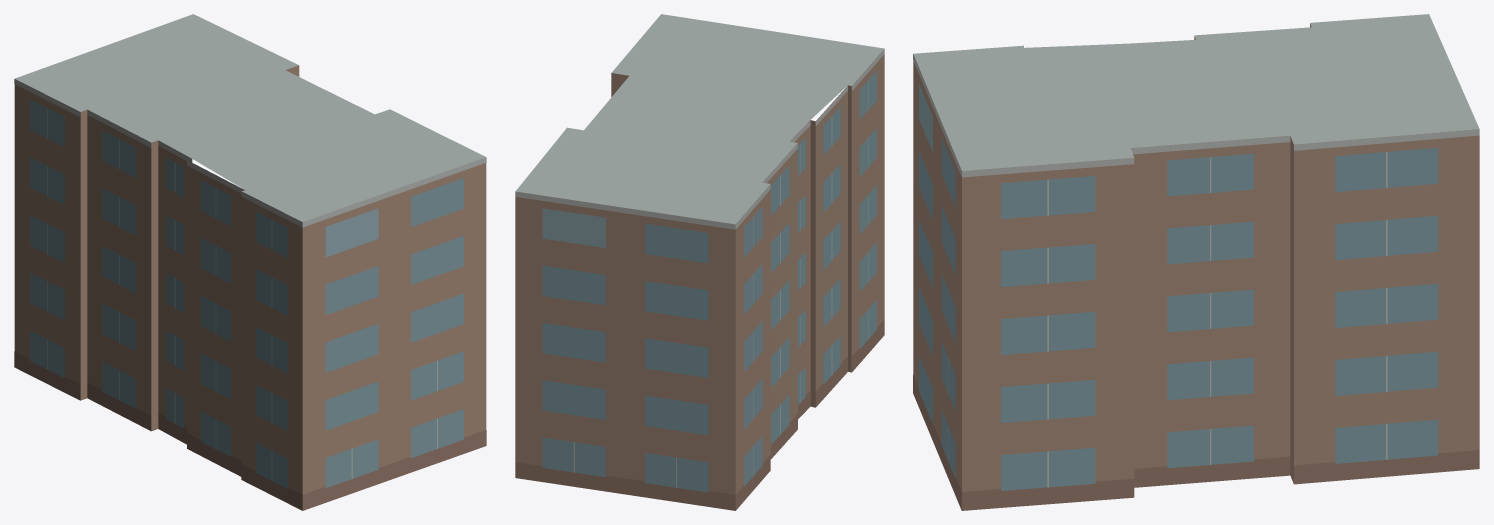
File: survey-upis-32575706.glb
3 views of the same model, side by side, from view 1: azimuth 30°, elevation 25°; view 2: azimuth 150°, elevation 25°; view 3: azimuth 270°, elevation 25° (orthographic). The views are drawn at different scales.
Visible parts, largest first — view 1: survey-upis-32575706.tmp; view 2: survey-upis-32575706.tmp; view 3: survey-upis-32575706.tmp.
Boxes of the visible parts, x1,y1,x2,y2 form: survey-upis-32575706.tmp: (14,14,486,510); survey-upis-32575706.tmp: (515,14,884,510); survey-upis-32575706.tmp: (913,14,1479,510).
Size of the model in its own units: 13 by 13.1 by 19.8.
